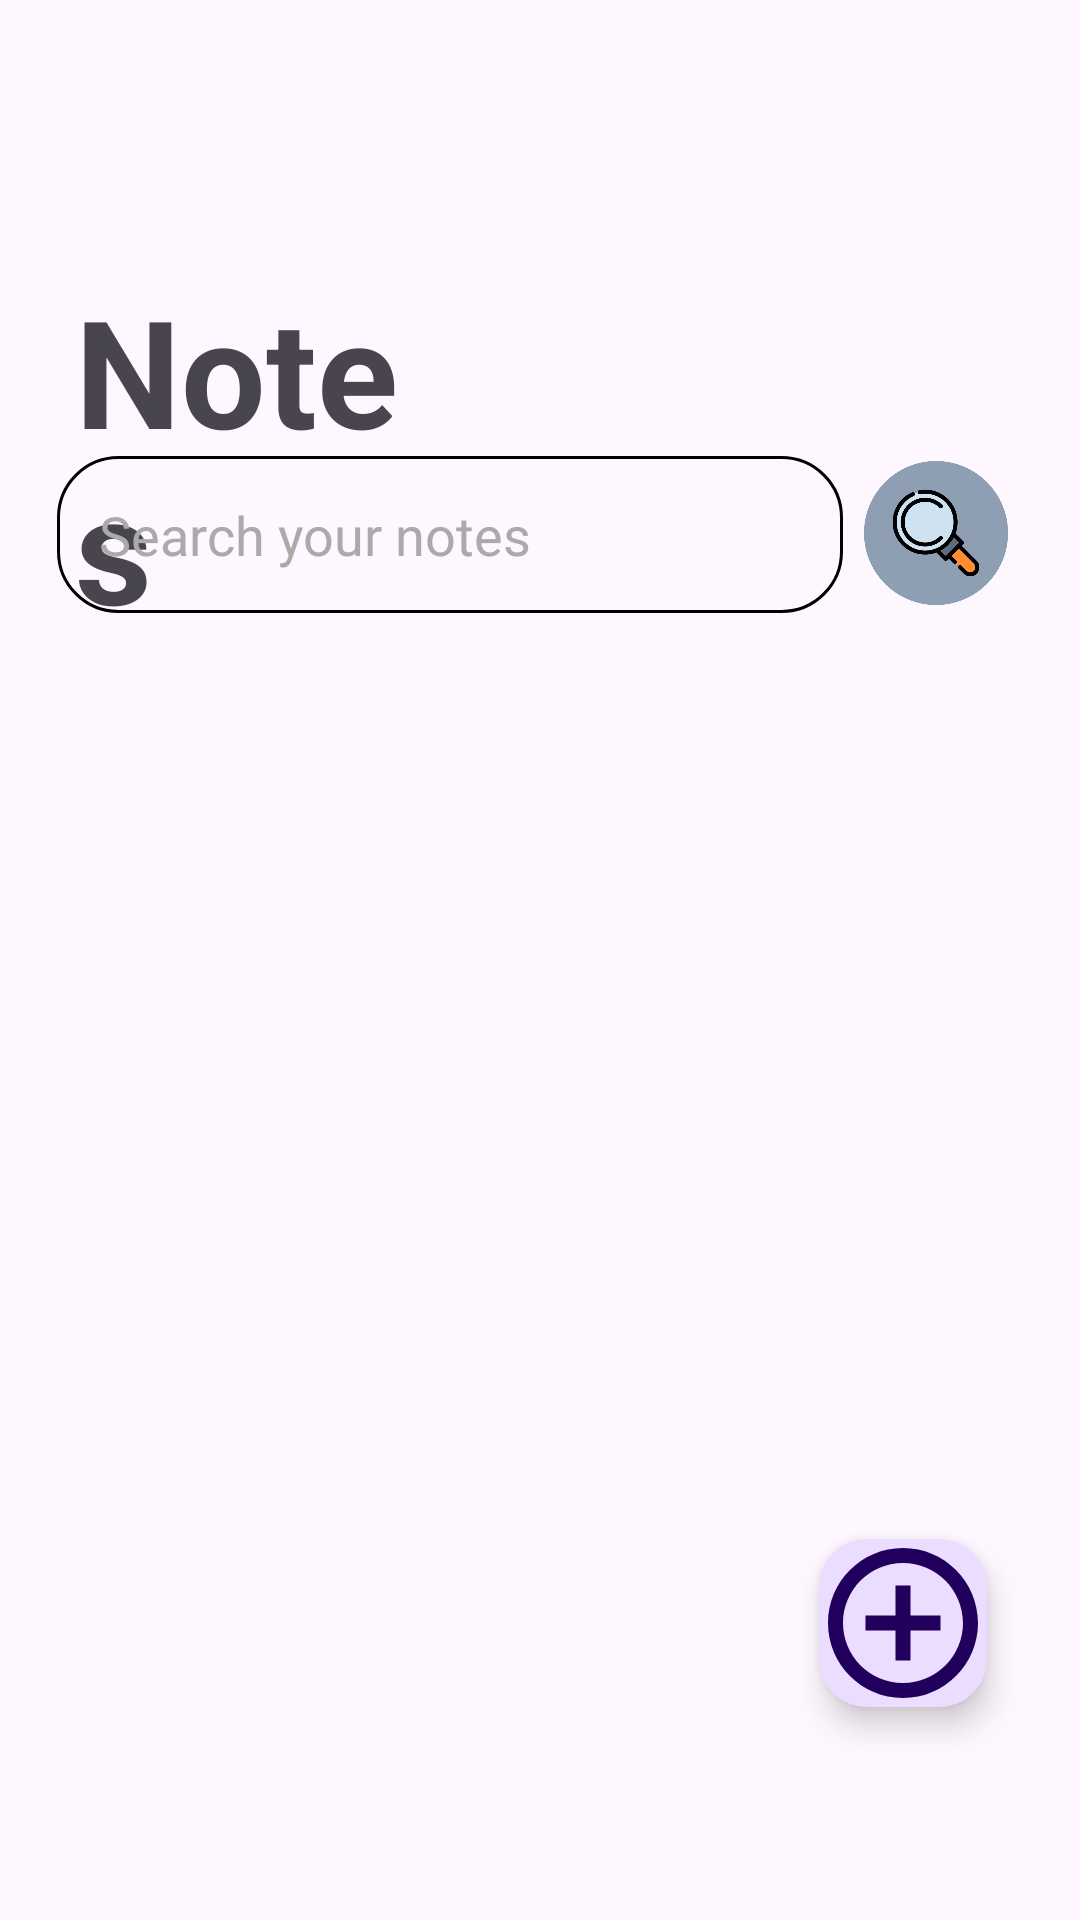

Where icons sit on this 1080 × 1920 app screen, as detection(x1, y1, x2, y2):
add circle: detection(819, 1539, 987, 1707)
